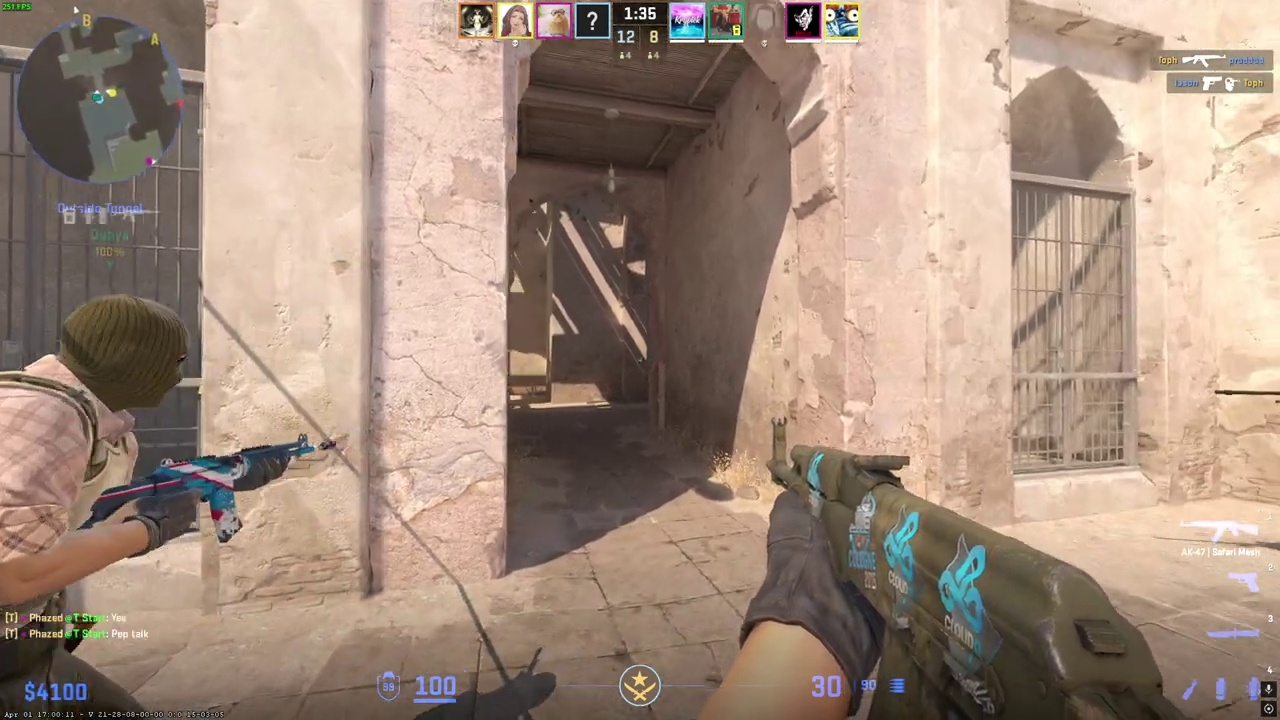Terrorist: (0, 290, 216, 720)
